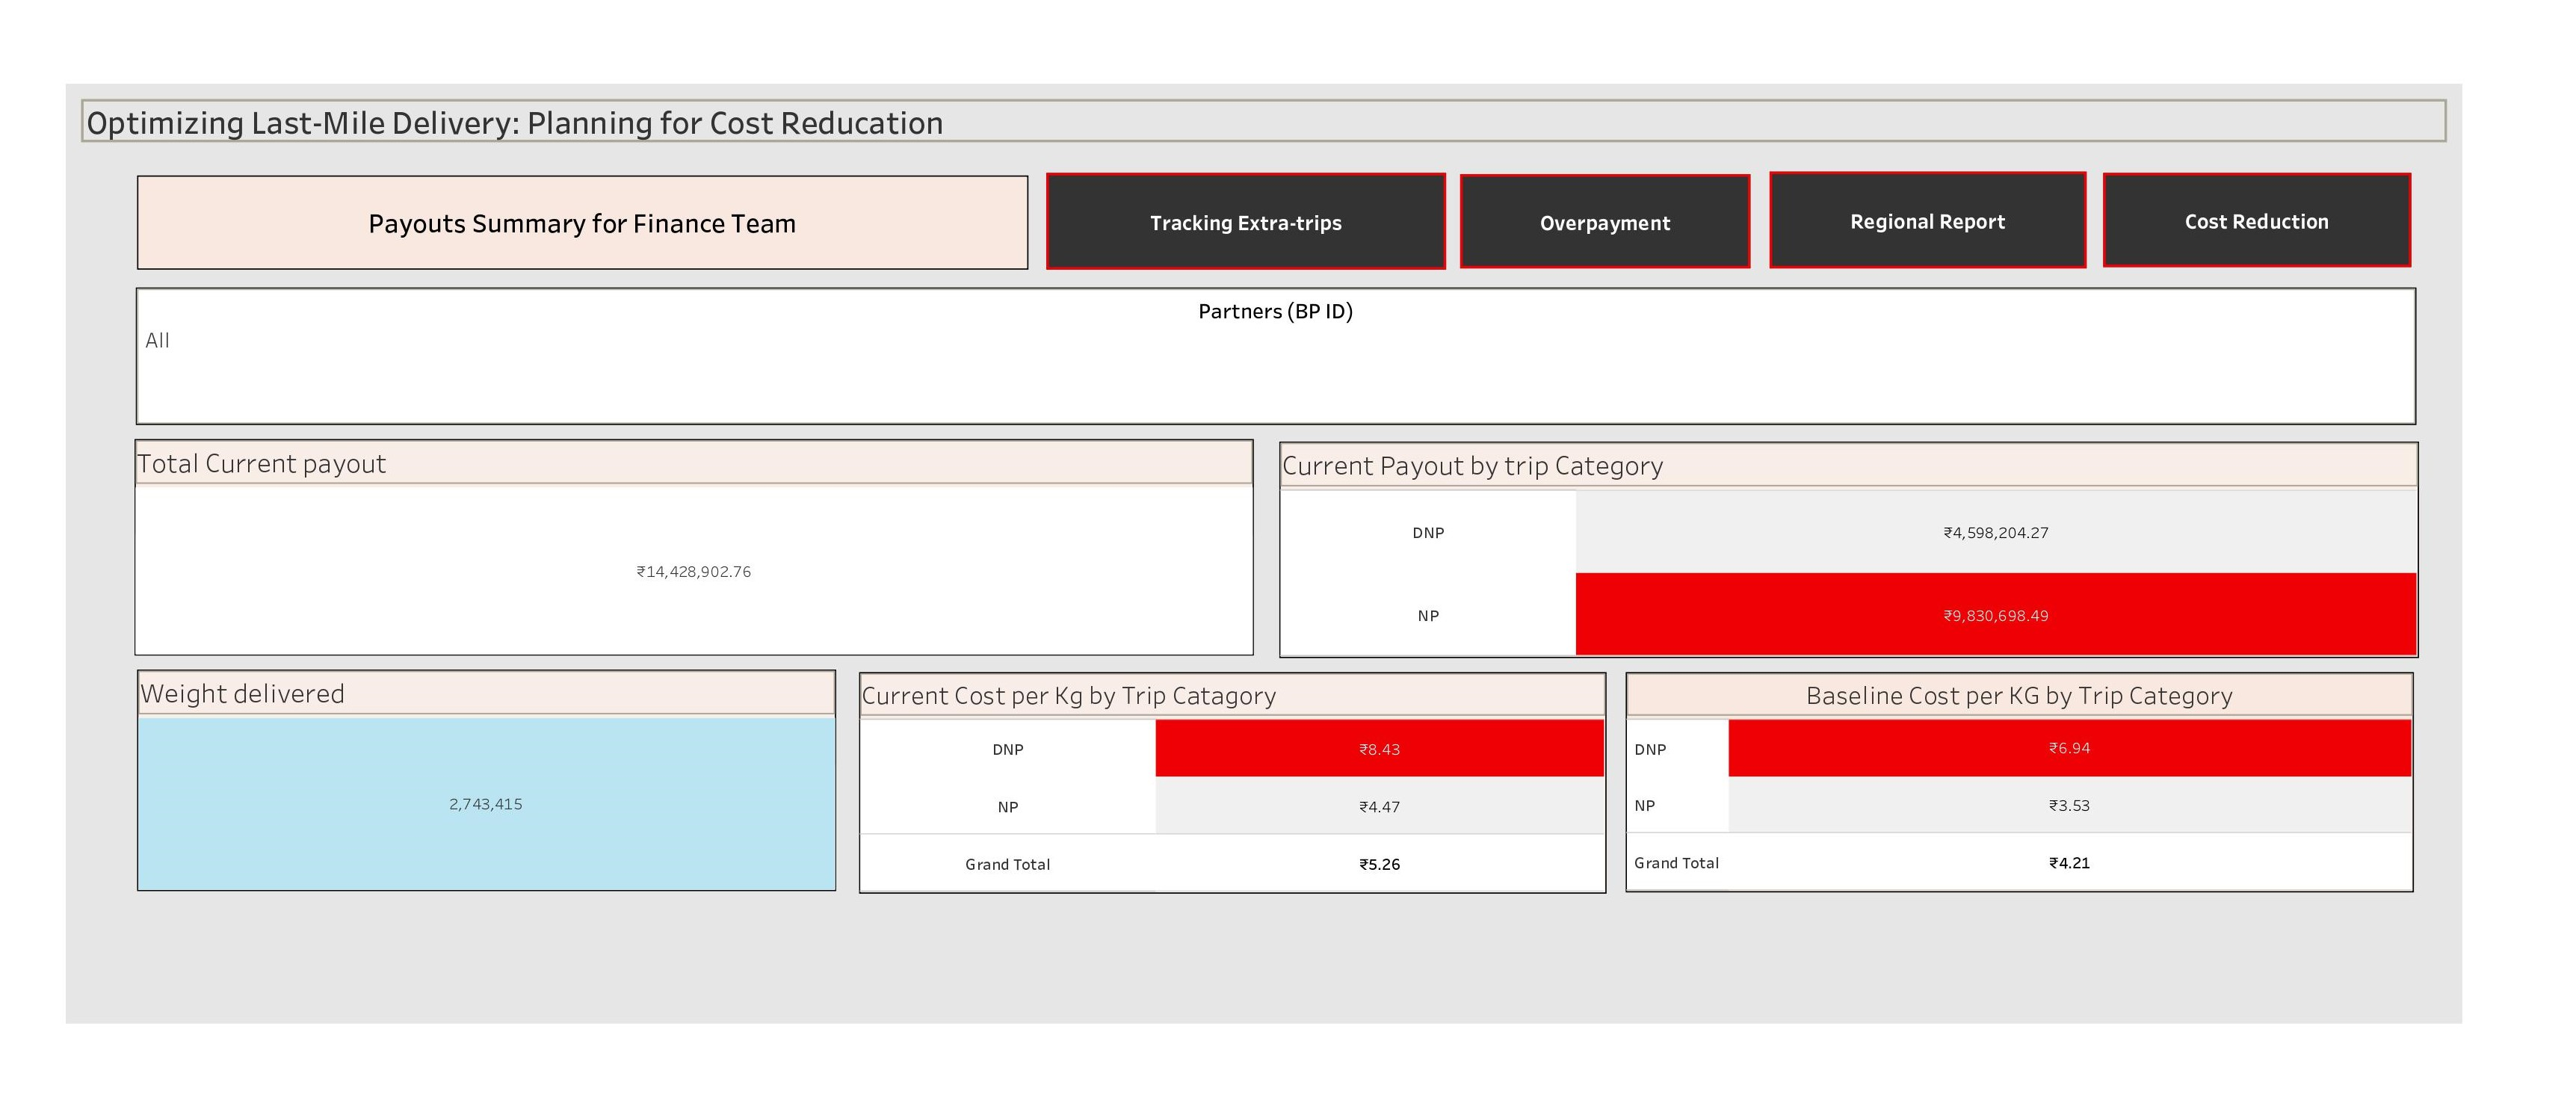

The page's visual inventory and layout, read from the dashboard file:
{"tool":"tableau","page":{"name":"D2: Payouts Summary for Finance Team","canvas":[1000,1000],"units":"permille","ordinal":1},"visuals":[{"type":"title","box":[4.7,11.2,990.6,58.9]},{"type":"dashboard-object","box":[710.7,94,132.8,102.4]},{"type":"dashboard-object","box":[409,95.2,167.1,102.4]},{"type":"dashboard-object","box":[850.4,95.2,128.4,100]},{"type":"dashboard-object","box":[581.7,96.4,121.6,100]},{"type":"text","box":[29.9,97.6,371.6,100]},{"type":"filter","title":"Total Current payout","param":"[federated.1dhh0g20ay950b102656w1hdwuqs].[none:bp_id (partners):nk]","box":[29.3,216.9,951.4,145.8]},{"type":"worksheet","title":"Total Current payout","mark":"Automatic","box":[28.7,378.3,467,230.1]},{"type":"worksheet","title":"Current Payout by trip Category","mark":"Square","rows":["trip_category"],"box":[506.2,380.7,475.7,230.1]},{"type":"worksheet","title":"Weight delivered","mark":"Automatic","box":[29.9,622.9,291.8,236.1]},{"type":"worksheet","title":"Current Cost per Kg by Trip Catagory","mark":"Square","rows":["trip_category"],"box":[331.1,626.5,311.7,234.9]},{"type":"worksheet","title":"Baseline Cost per KG by Trip Category","mark":"Square","rows":["trip_category"],"box":[650.9,626.5,329.2,233.7]}]}

Visuals, with their boxes on the dashboard's canvas, which has no fixed pixel size, in thousandths of its width and height (x1, y1, x2, y2). These are canvas units, not pixel positions in the 2576x1100 screenshot, which may show the page scaled, cropped or inside an application window:
title: {"x1": 5, "y1": 11, "x2": 995, "y2": 70}
dashboard-object: {"x1": 711, "y1": 94, "x2": 844, "y2": 196}
dashboard-object: {"x1": 409, "y1": 95, "x2": 576, "y2": 198}
dashboard-object: {"x1": 850, "y1": 95, "x2": 979, "y2": 195}
dashboard-object: {"x1": 582, "y1": 96, "x2": 703, "y2": 196}
text: {"x1": 30, "y1": 98, "x2": 402, "y2": 198}
"Total Current payout" filter: {"x1": 29, "y1": 217, "x2": 981, "y2": 363}
"Total Current payout" worksheet: {"x1": 29, "y1": 378, "x2": 496, "y2": 608}
"Current Payout by trip Category" worksheet (Square marks): {"x1": 506, "y1": 381, "x2": 982, "y2": 611}
"Weight delivered" worksheet: {"x1": 30, "y1": 623, "x2": 322, "y2": 859}
"Current Cost per Kg by Trip Catagory" worksheet (Square marks): {"x1": 331, "y1": 626, "x2": 643, "y2": 861}
"Baseline Cost per KG by Trip Category" worksheet (Square marks): {"x1": 651, "y1": 626, "x2": 980, "y2": 860}
